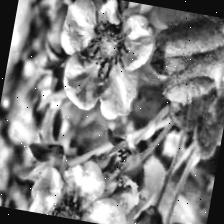Blossom Blight: (76, 7, 140, 85), (45, 180, 98, 222)
